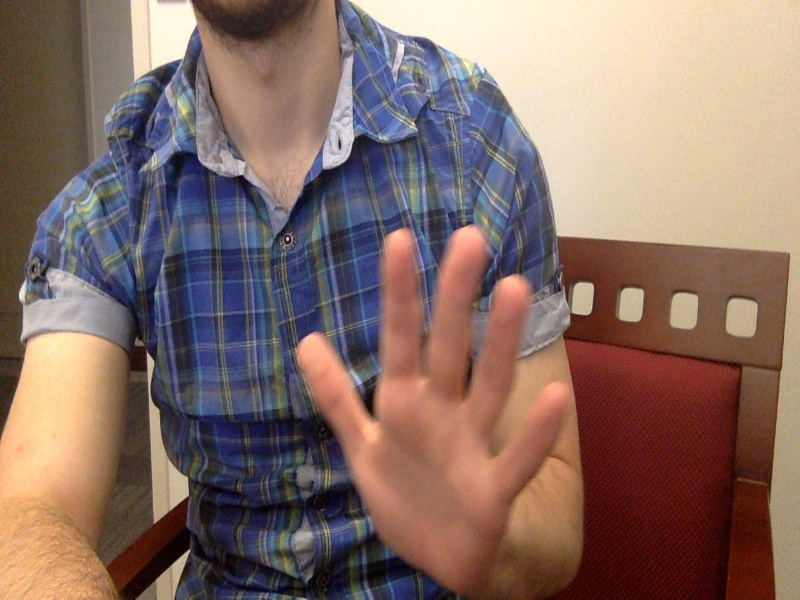5-hand: (296, 226, 574, 582)
